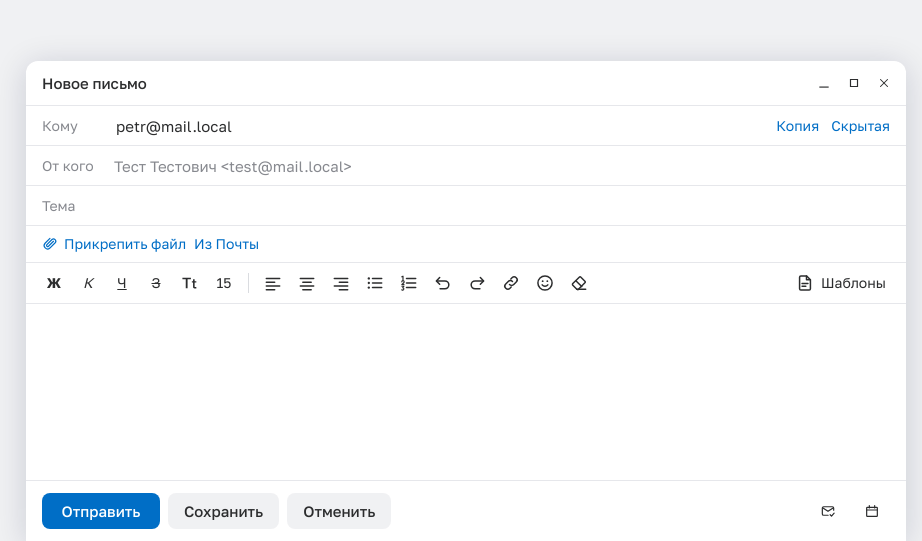
it: вставка шаблона › вложения шаблона докладываются в письмо отдельным запросом
Click the button "Шаблоны": {"x": 840, "y": 283} [787, 267, 894, 299]
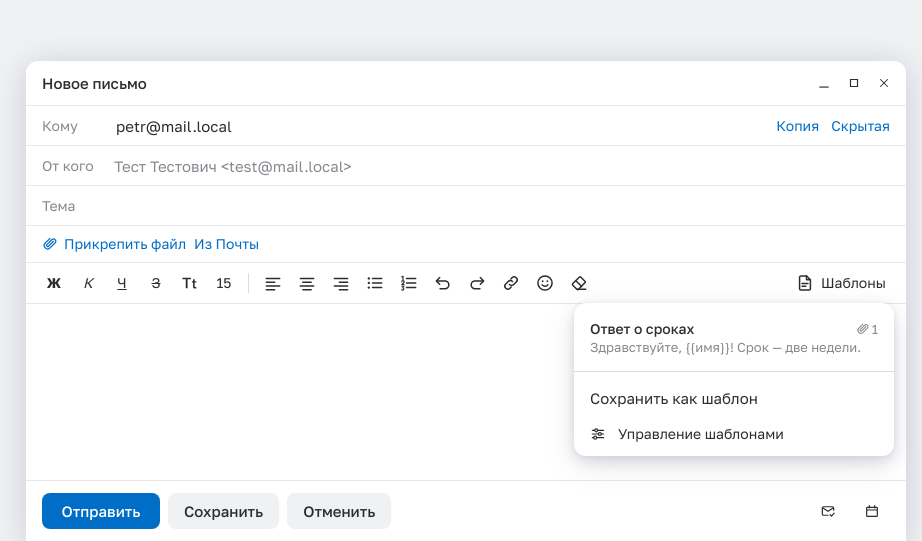
Click the menu item "Ответ о сроках 1 Здравствуйте, {{имя}}! Срок — две недели.": {"x": 734, "y": 337} [574, 311, 894, 363]
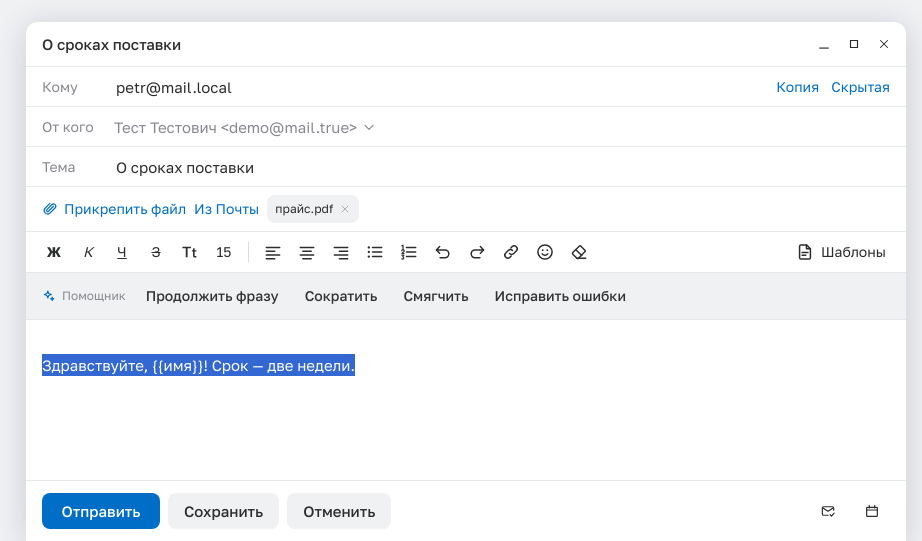
Result: the text "прайс.pdf" is shown at [275, 199, 333, 219]
